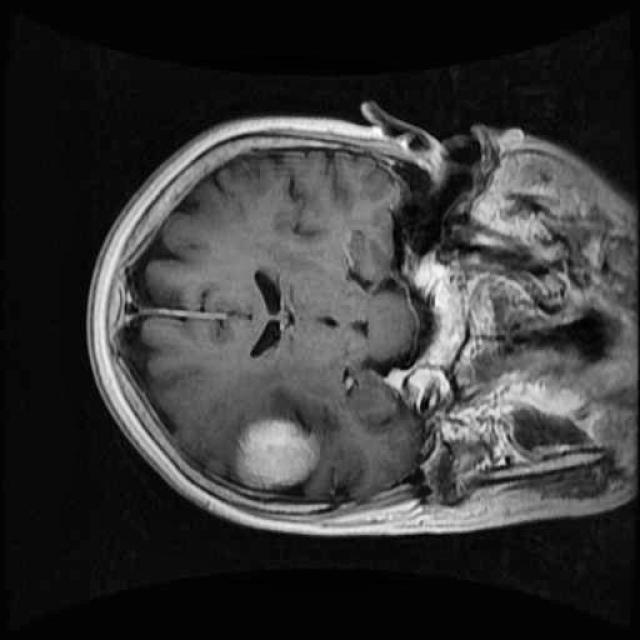Tumor: (221, 405, 335, 509)
